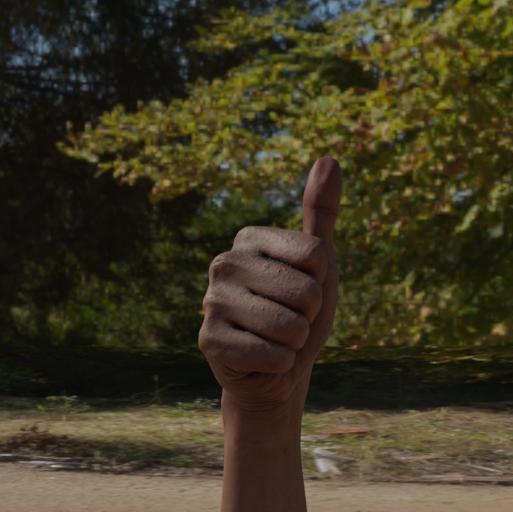thumbs-up: (194, 148, 346, 403)
